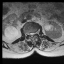CCS_normal: (31, 31, 32, 38)
LFS_stenosis: (34, 30, 36, 35)
LLS_normal: (32, 31, 34, 37)
RFS_normal: (27, 31, 29, 36)
RLS_normal: (29, 31, 31, 37)
